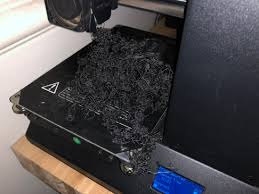fail: (73, 19, 166, 178)
